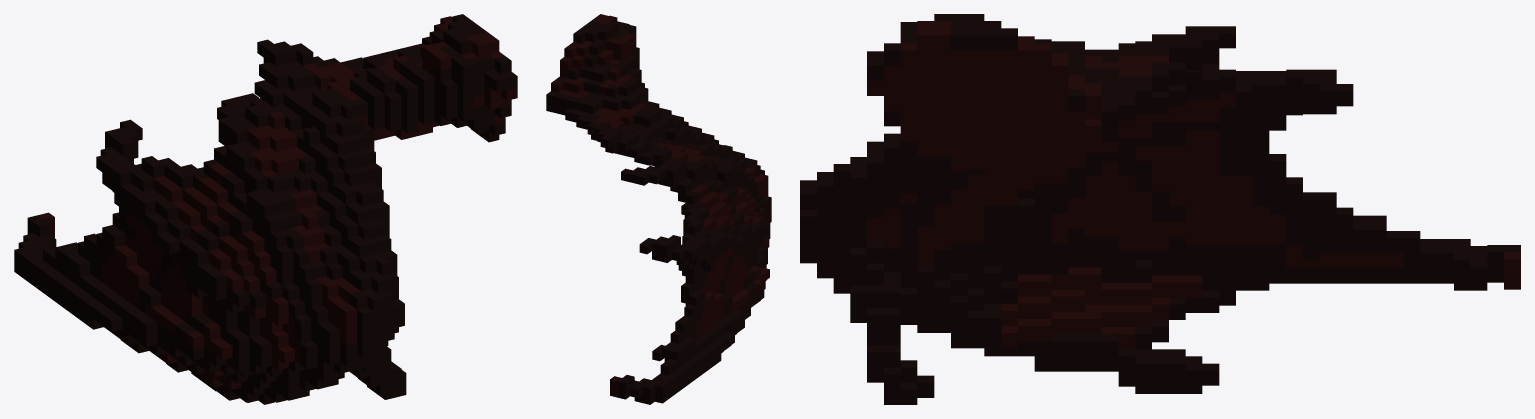
The model's file is dragon_right_wing.obj.
3 renders of one model, left to right at view 1: azimuth 30°, elevation 25°; view 2: azimuth 150°, elevation 25°; view 3: azimuth 270°, elevation 25°, orthographic. The views are drawn at different scales.
Bounding box in the file's own units: 2.7 × 3.2 × 4.3.
1 material, 1 textured.
